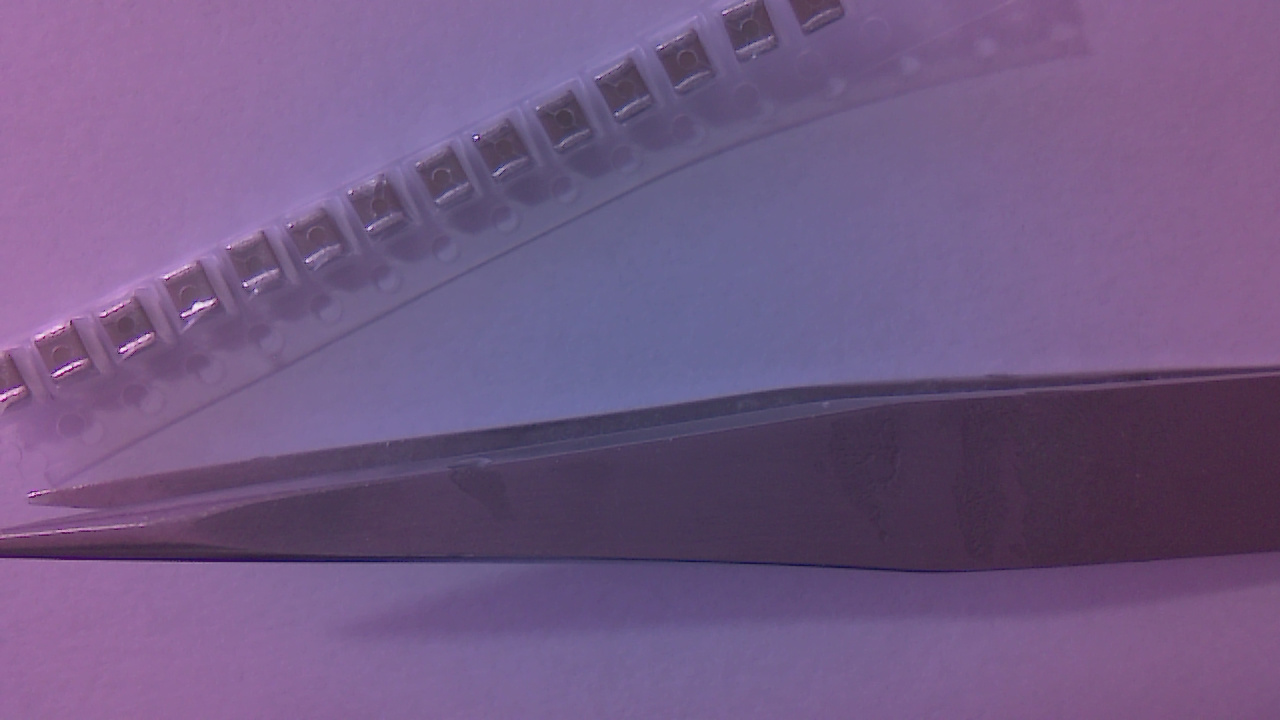Condensator: (290, 209, 354, 276), (166, 262, 226, 327), (419, 148, 478, 214), (600, 59, 657, 126), (661, 30, 717, 98), (37, 324, 99, 385), (479, 121, 538, 185), (231, 231, 286, 298), (351, 179, 411, 240), (101, 298, 162, 358), (730, 7, 785, 69), (545, 90, 594, 157)
